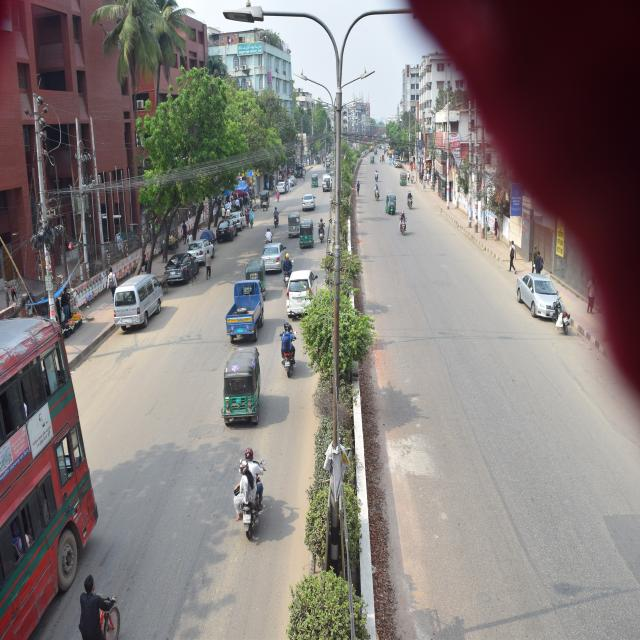bus: (10, 351, 102, 593)
car: (513, 274, 562, 330), (159, 247, 203, 287), (187, 220, 212, 264), (256, 243, 282, 280), (220, 200, 238, 248), (227, 198, 253, 228), (303, 192, 316, 218), (322, 173, 334, 193)
microbus: (100, 270, 175, 331), (284, 268, 327, 328)
motorbike: (236, 436, 273, 537), (275, 325, 306, 378), (538, 291, 574, 335), (262, 192, 288, 227), (312, 208, 332, 238), (278, 244, 294, 278), (392, 212, 410, 242), (371, 162, 383, 187), (370, 183, 382, 207), (263, 231, 276, 252), (405, 197, 416, 210)
